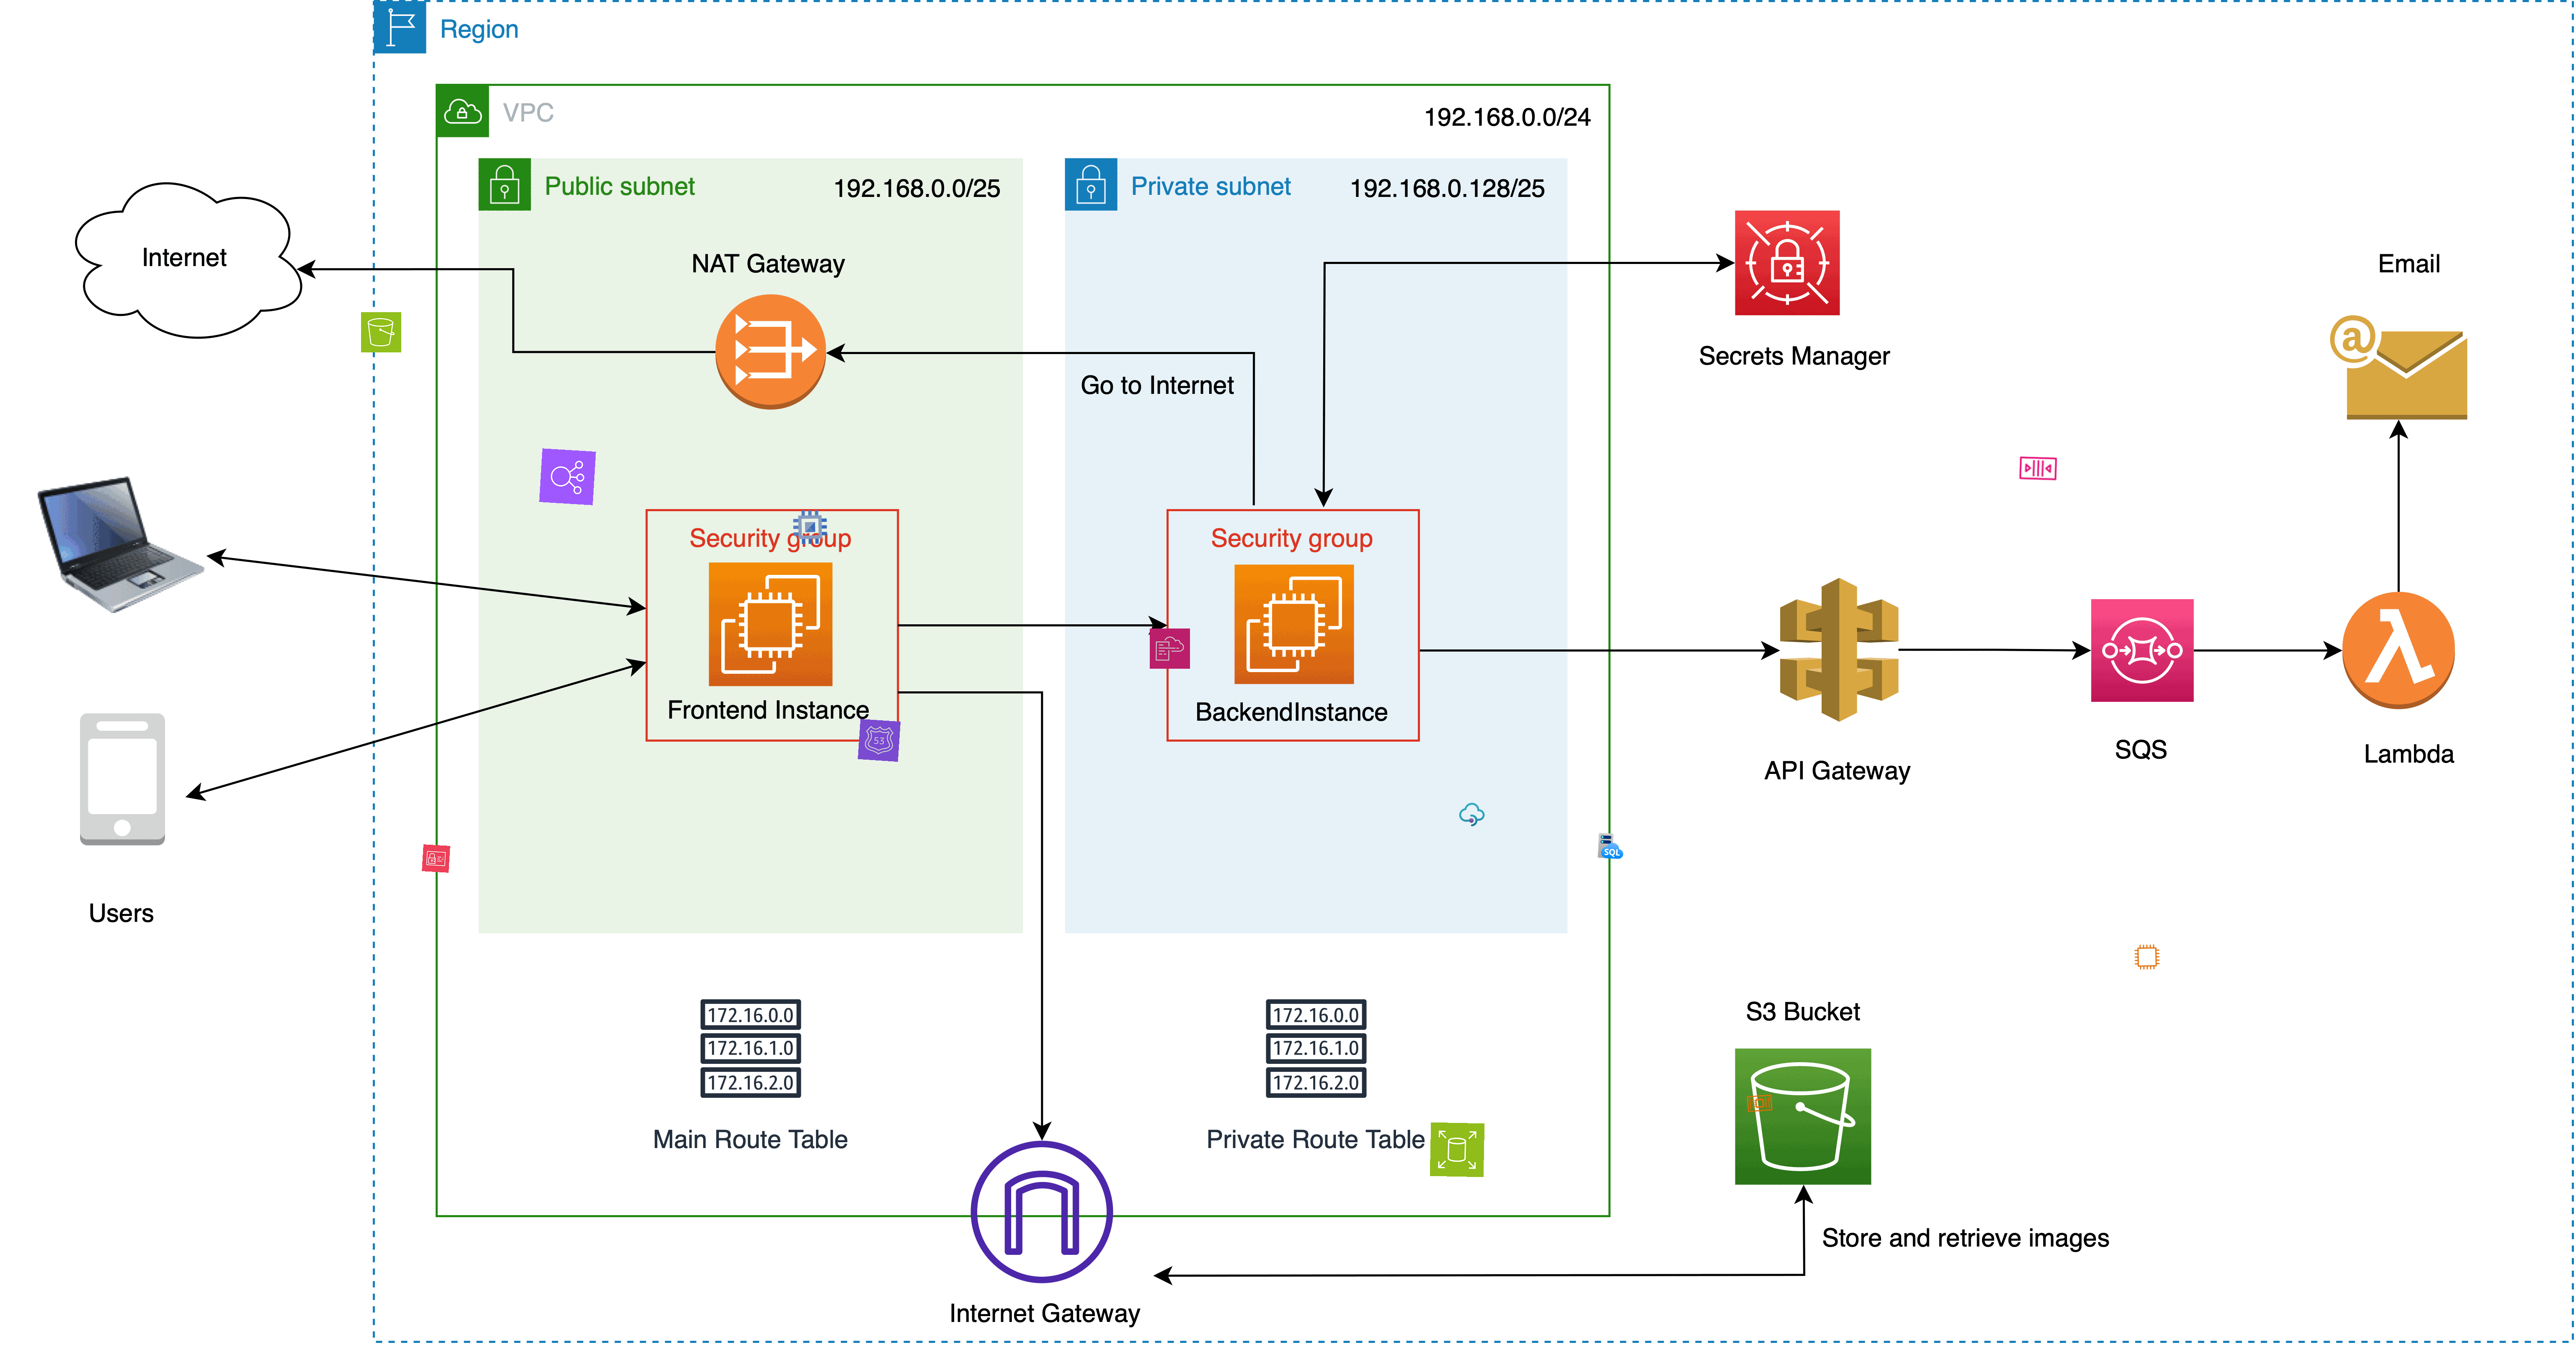aws_amazon_elastic_block_store: (1429, 1122, 1486, 1178)
aws_amazon_route_53: (857, 719, 901, 762)
aws_amazon_simple_storage_service: (361, 312, 402, 353)
aws_cloudformation: (1150, 627, 1191, 670)
aws_ec2_instance: (2133, 943, 2160, 972)
aws_elastic_container_service_container_2: (1745, 1089, 1774, 1118)
aws_elastic_load_balancing: (538, 448, 596, 505)
aws_identity_and_access_management: (423, 844, 450, 873)
aws_simple_queue_service_queue: (2017, 447, 2060, 489)
azure_api_management_services: (1457, 799, 1487, 828)
azure_sql_managed_instance: (1596, 832, 1625, 861)
gcp_compute_engine: (789, 506, 831, 547)
